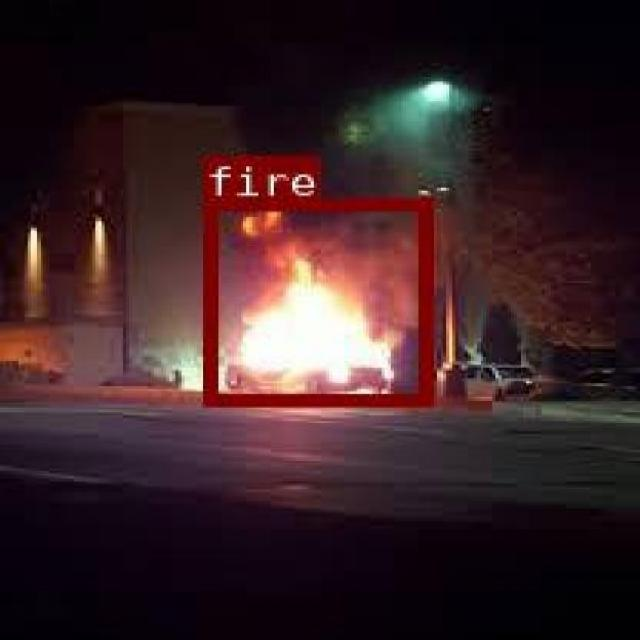Fire: (202, 196, 430, 404)
